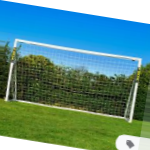goals: (5, 37, 142, 123)
